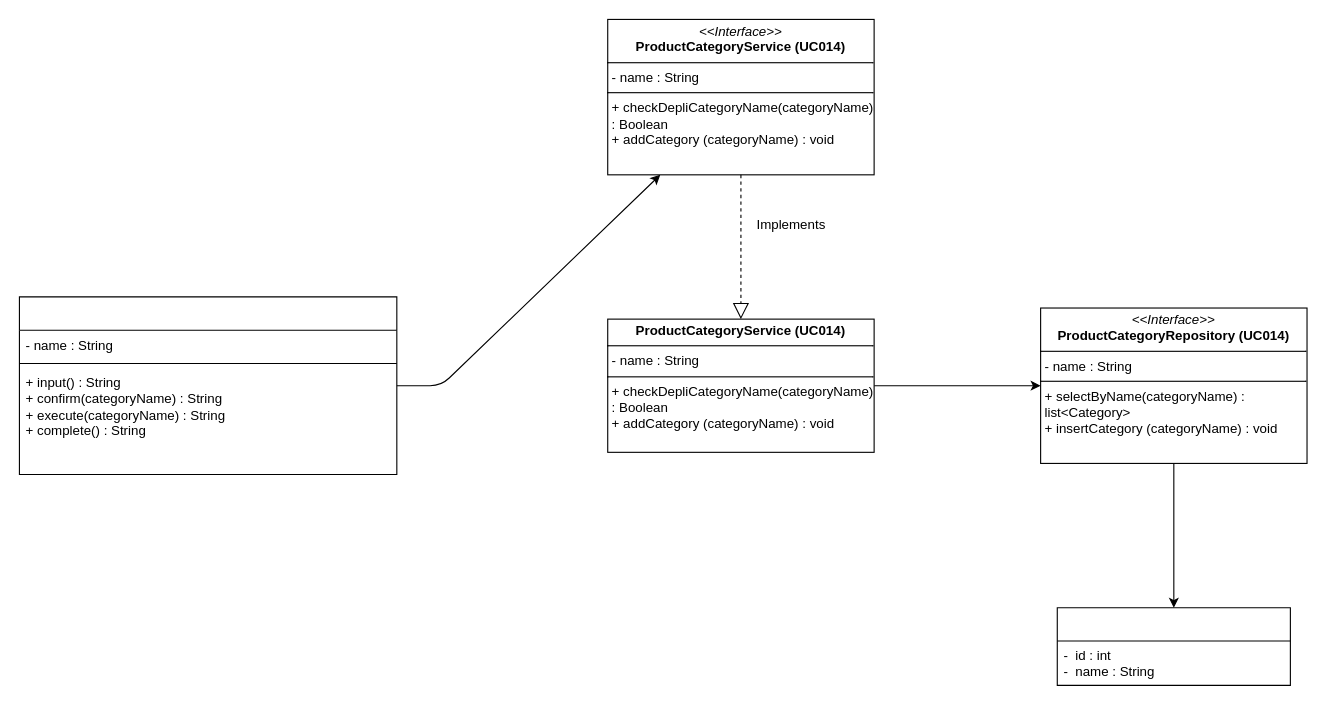
This 1326x708 diagram has some shape labels left out. Each missing label, with the box of its shape:
ProductCategoryController (UC014): (18, 296, 397, 475)
ProductCategoryEntity (UC014): (1056, 607, 1290, 685)
